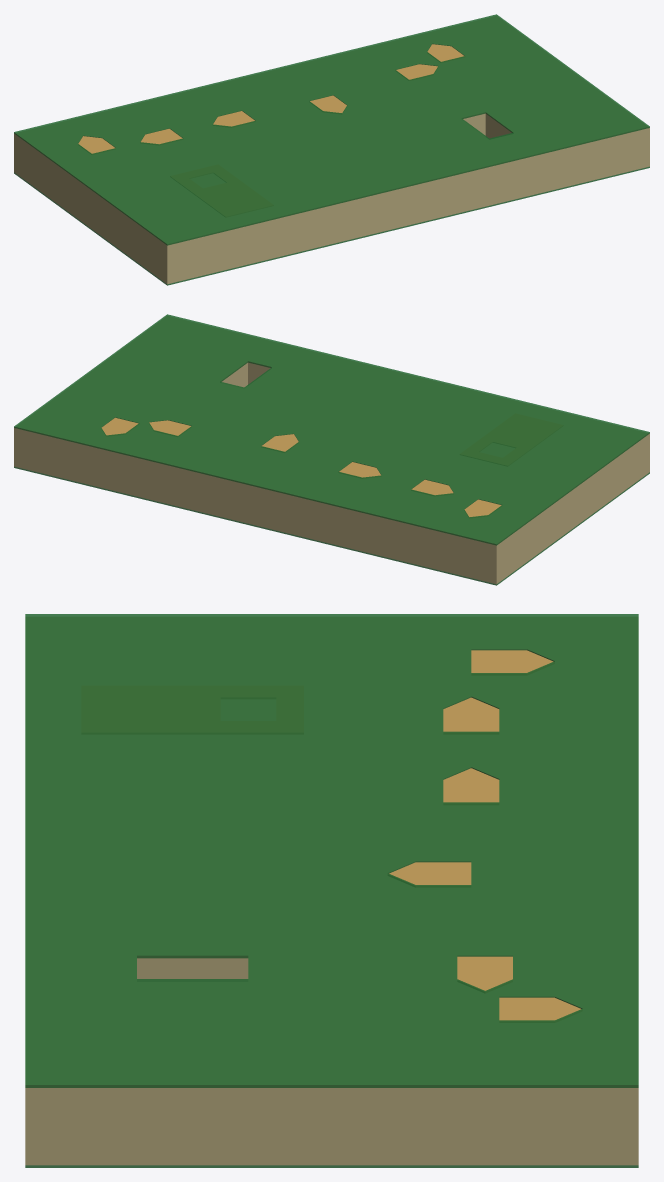
File: polygon-xform.glb
3 renders of one model, top to bottom at view 1: azimuth 30°, elevation 25°; view 2: azimuth 150°, elevation 25°; view 3: azimuth 270°, elevation 25°, orthographic. The views are drawn at different scales.
Visible parts, largest first — view 1: layer/@soldermask-top, layer/@core, layer/TOP, layer/@soldermask-bottom; view 2: layer/@soldermask-top, layer/@core, layer/TOP, layer/@soldermask-bottom; view 3: layer/@soldermask-top, layer/@core, layer/TOP, layer/@soldermask-bottom.
Boxes of the visible parts, x1,y1,x2,y2 form: layer/@soldermask-top: (14,14,649,245); layer/@core: (14,17,649,284); layer/TOP: (78,44,464,198); layer/@soldermask-bottom: (14,166,649,285); layer/@soldermask-top: (14,314,649,545); layer/@core: (14,316,649,584); layer/TOP: (101,417,524,517); layer/@soldermask-bottom: (14,466,649,585); layer/@soldermask-top: (25,614,638,1087); layer/@core: (25,617,638,1165); layer/TOP: (83,650,581,1022); layer/@soldermask-bottom: (25,1165,638,1167).
Bounding box in the file's own units: 0.02 × 0.00164 × 0.011.
